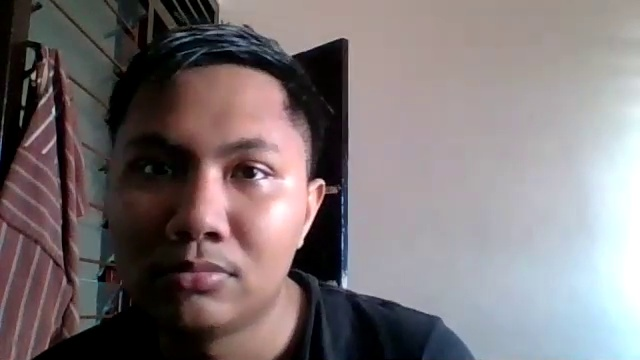Not Distracted: (102, 88, 326, 329)
